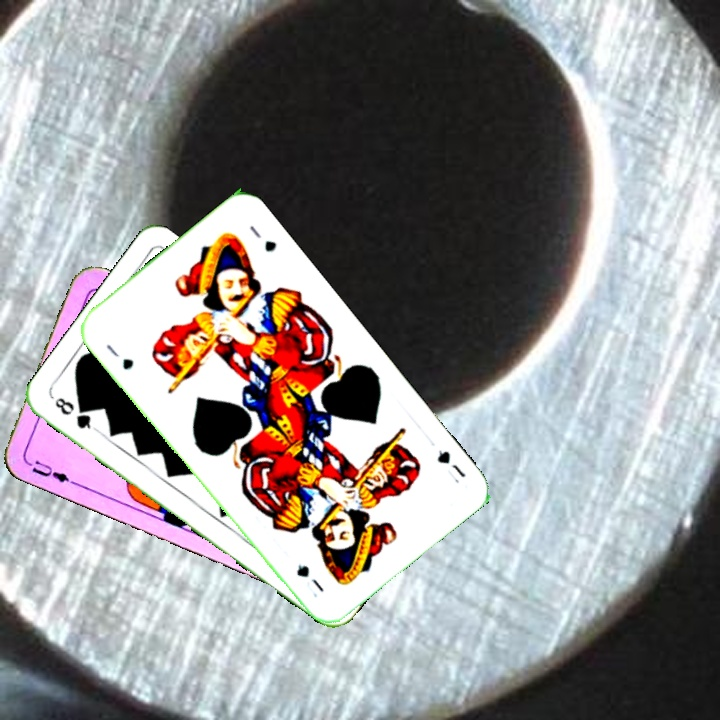EU: (22, 456, 78, 488)
G8: (50, 393, 99, 433)
GU: (432, 446, 469, 486), (101, 340, 136, 373)
